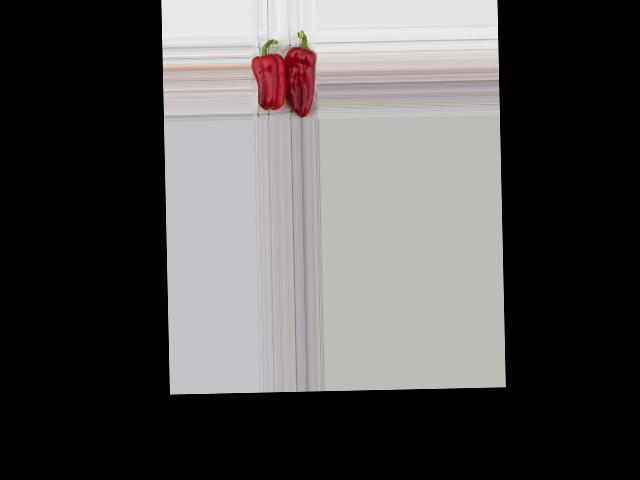bell_pepper: (283, 27, 317, 118)
